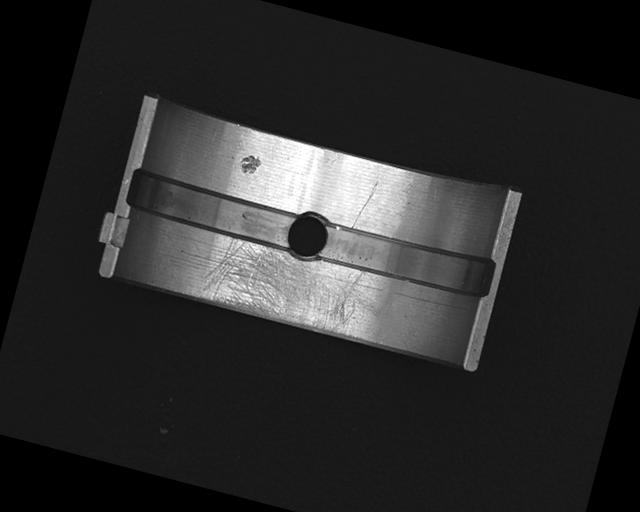bruise: (237, 151, 262, 178)
gap: (317, 218, 496, 302), (124, 169, 299, 251)
hole: (281, 208, 333, 264)
nick: (350, 177, 378, 231)
scratch: (199, 232, 383, 342)
